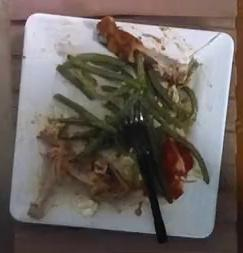green_beans: (54, 52, 199, 143), (38, 107, 135, 161)
pizza_crust: (98, 16, 143, 63)
